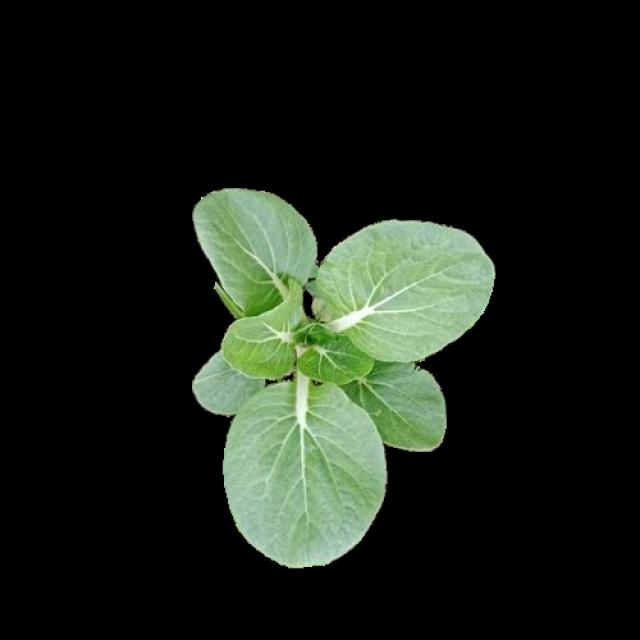healthy: (187, 184, 491, 564)
not-mature: (190, 187, 494, 566)
